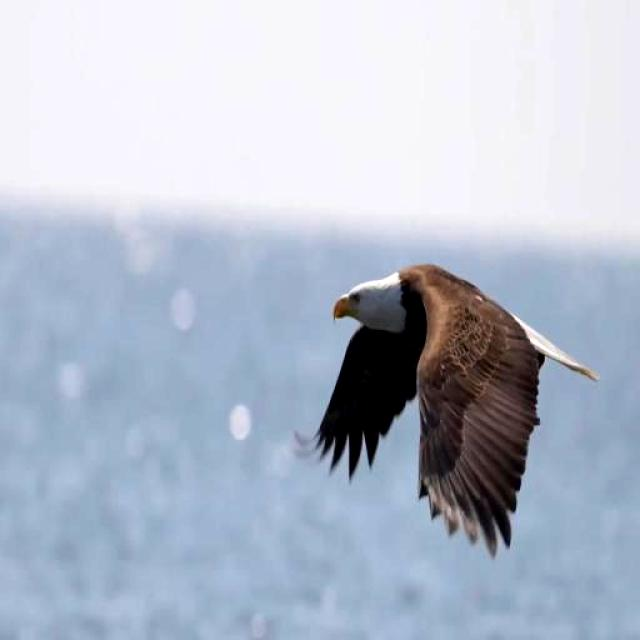airplane: (298, 235, 580, 566)
